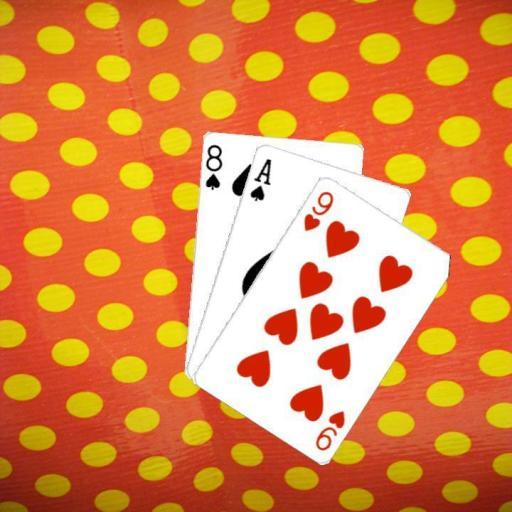card-corner: (300, 187, 336, 233), (312, 407, 347, 452), (247, 154, 273, 202), (202, 141, 224, 191)
